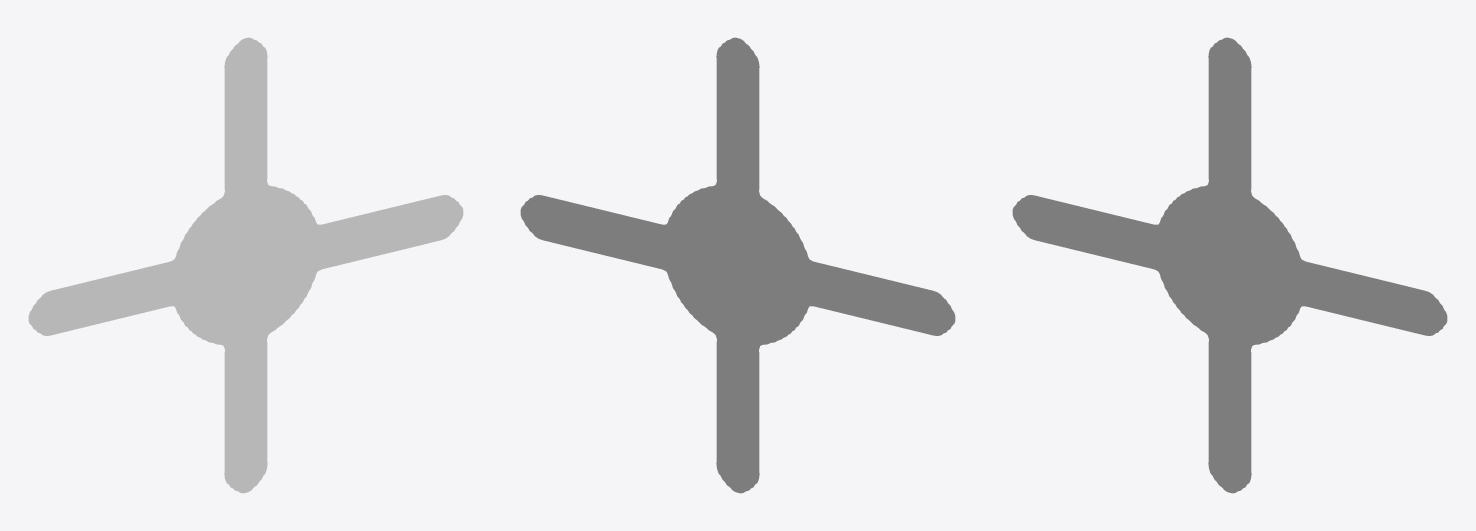
Rendered from assets.FBX.
3 renders of one model, left to right at view 1: azimuth 30°, elevation 25°; view 2: azimuth 150°, elevation 25°; view 3: azimuth 330°, elevation 25°, orthographic.
Visible parts, largest first — view 1: star; view 2: star; view 3: star.
Boxes of the visible parts, x1,y1,x2,y2 form: star: [28, 37, 463, 493]; star: [520, 37, 955, 493]; star: [1012, 37, 1447, 493].
Size of the model in its own units: 0.8833 by 0.8833 by 7.72e-08.
1 material, 1 textured.
